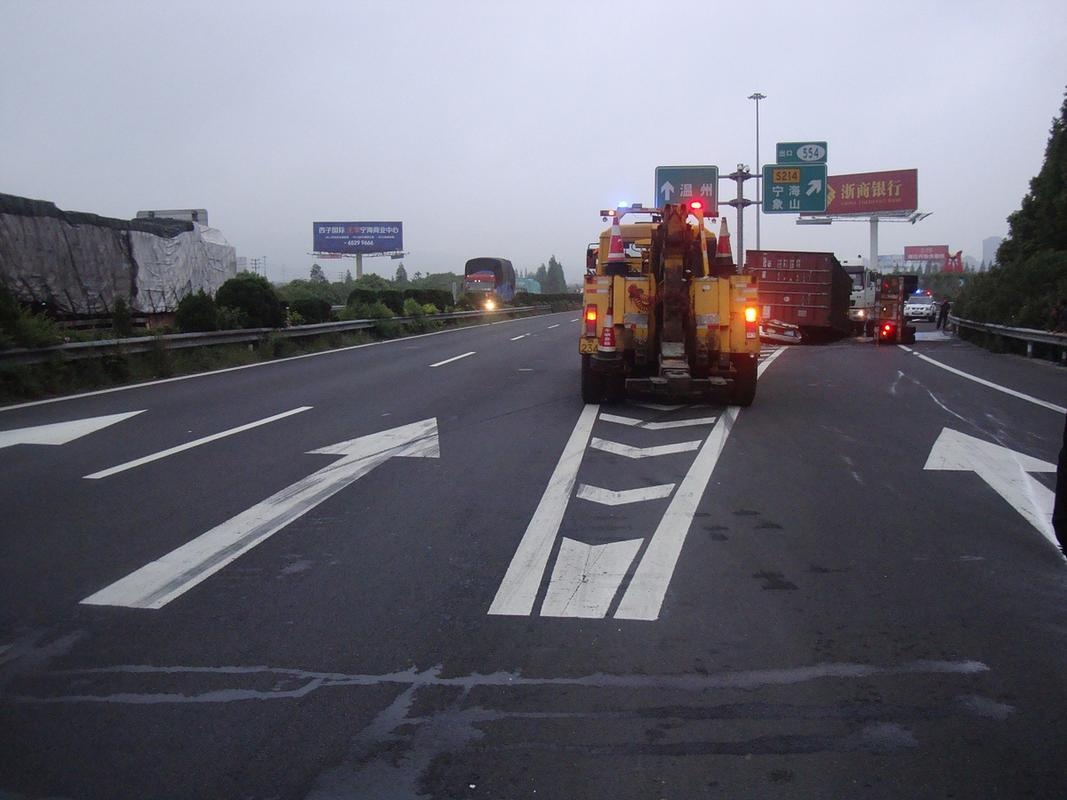lane: (488, 395, 741, 622), (5, 318, 415, 398), (915, 421, 1053, 547), (83, 404, 306, 477), (896, 346, 1067, 412), (428, 349, 480, 366), (514, 330, 535, 346)
